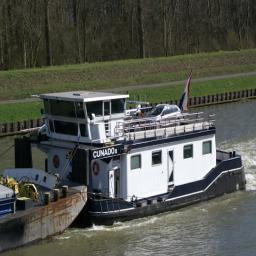tugboat: (13, 89, 250, 230)
